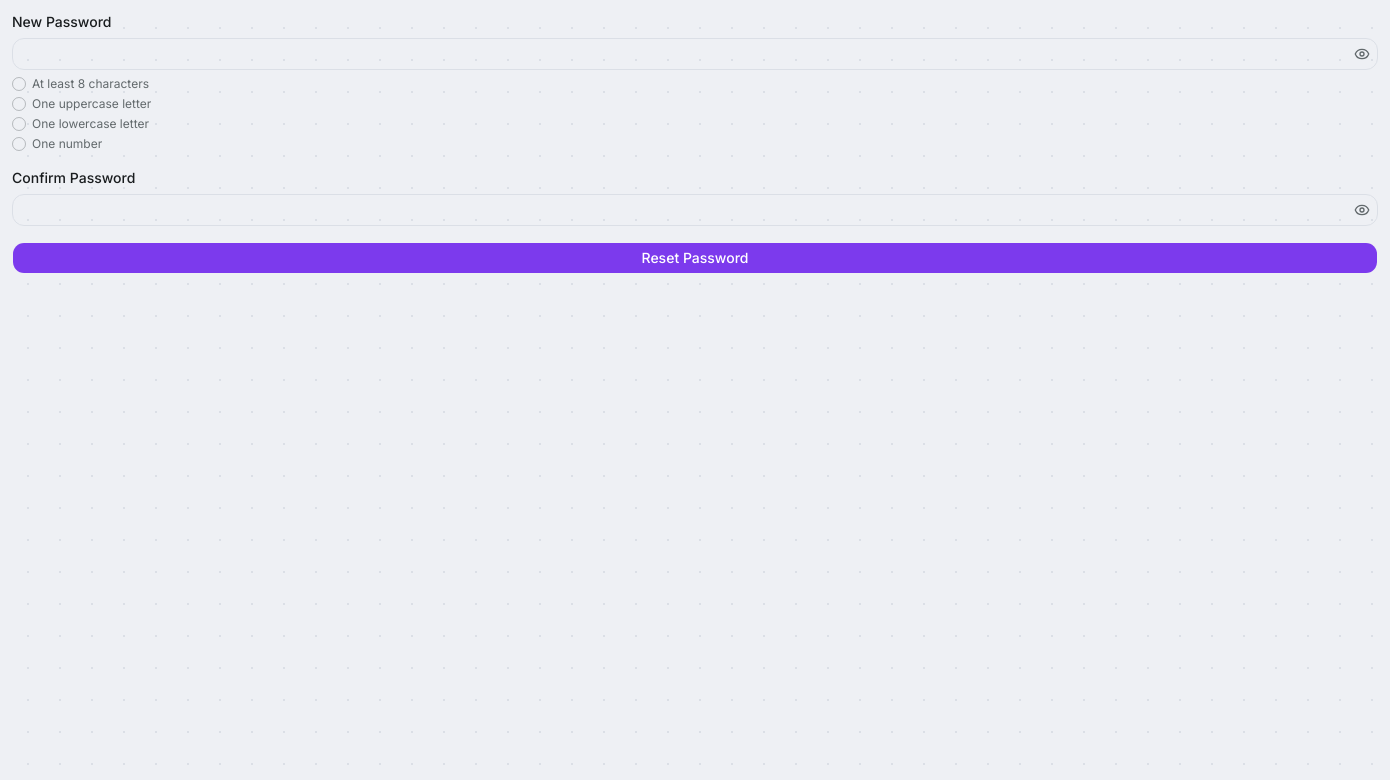
ResetPasswordForm › maps the invalid_token API error code to its own message
Step 1. Type "Password123" into the password field labelled "New Password" → (695, 54), box left=12, top=38, right=1378, bottom=70
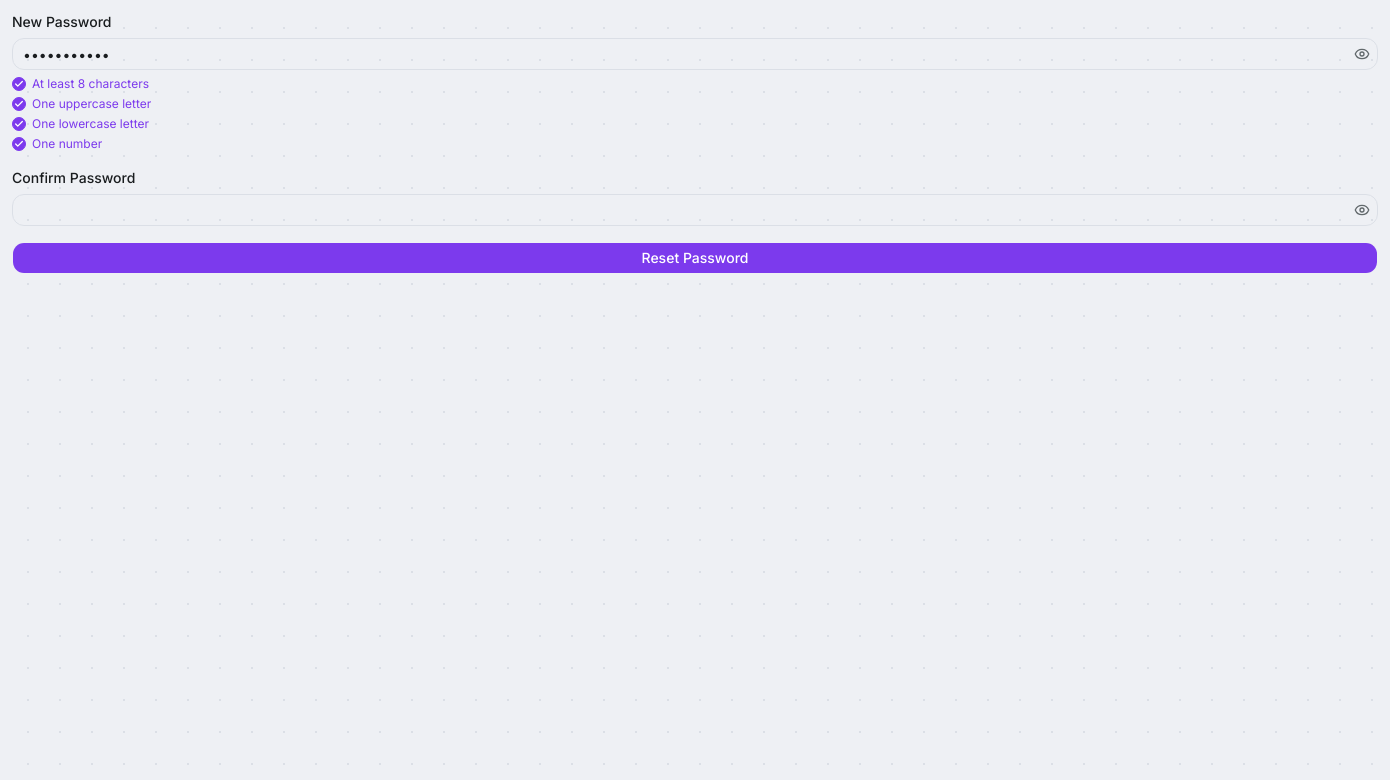
Step 2. Type "Password123" into the password field labelled "Confirm Password" → (695, 210), box left=12, top=194, right=1378, bottom=226
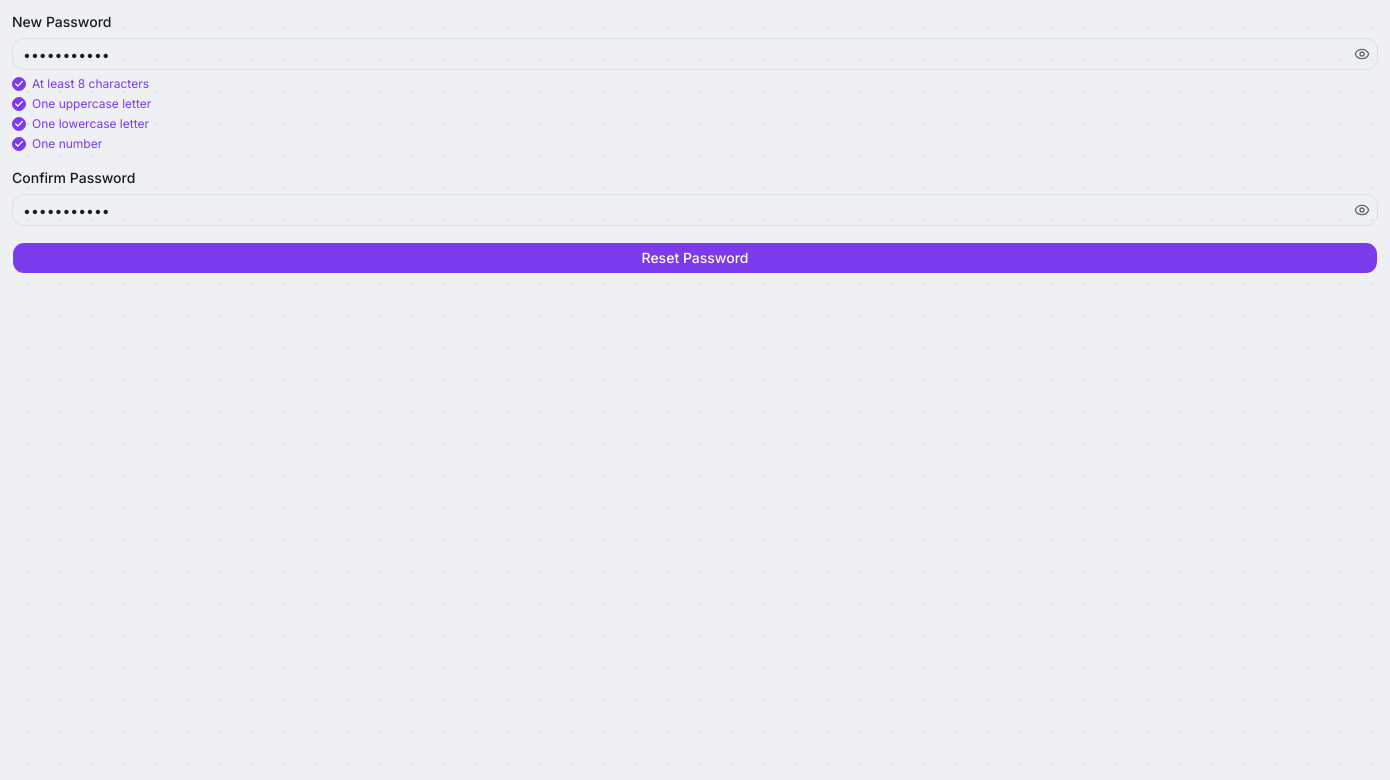
Step 3. Click the button "Reset Password" → (695, 258), box left=12, top=242, right=1378, bottom=274
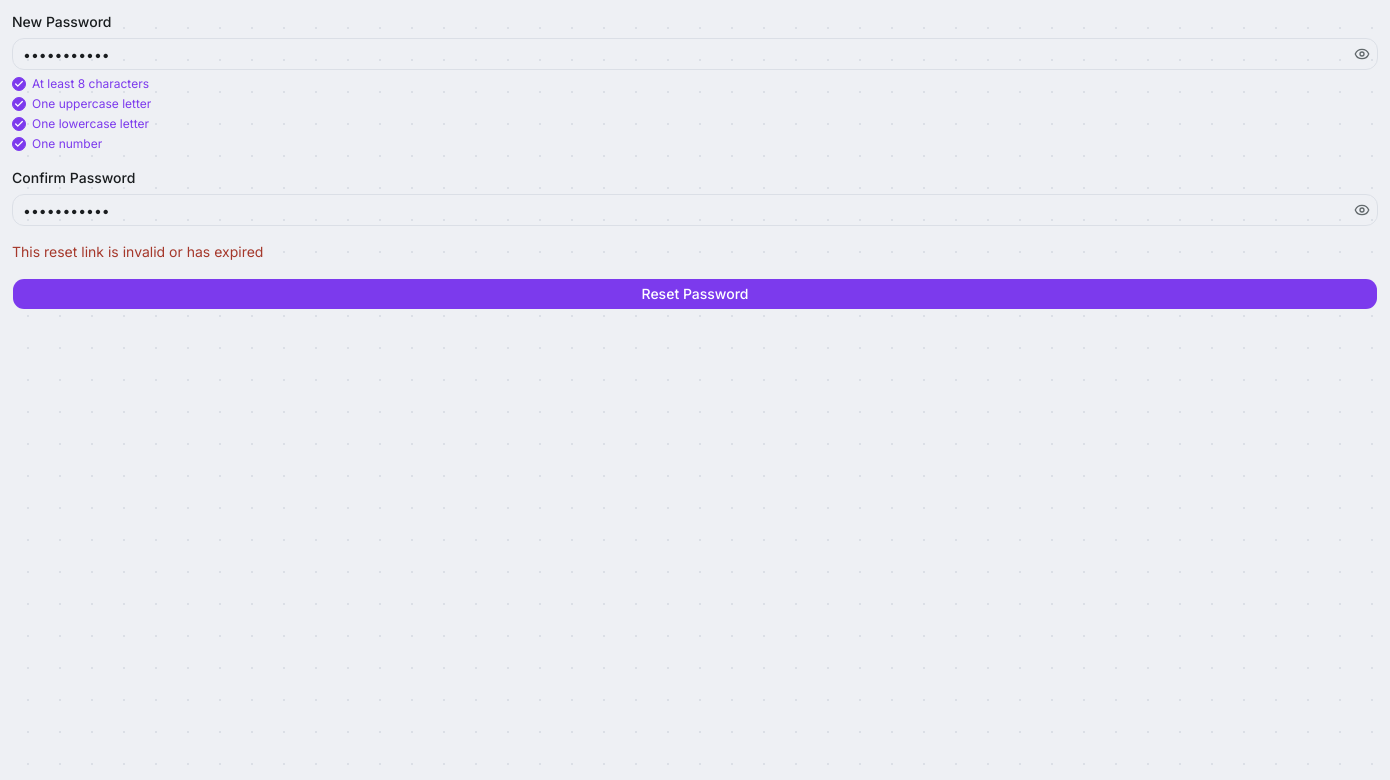
expect the text "This reset link is invalid or has expired" is shown: met, box left=12, top=243, right=263, bottom=260
